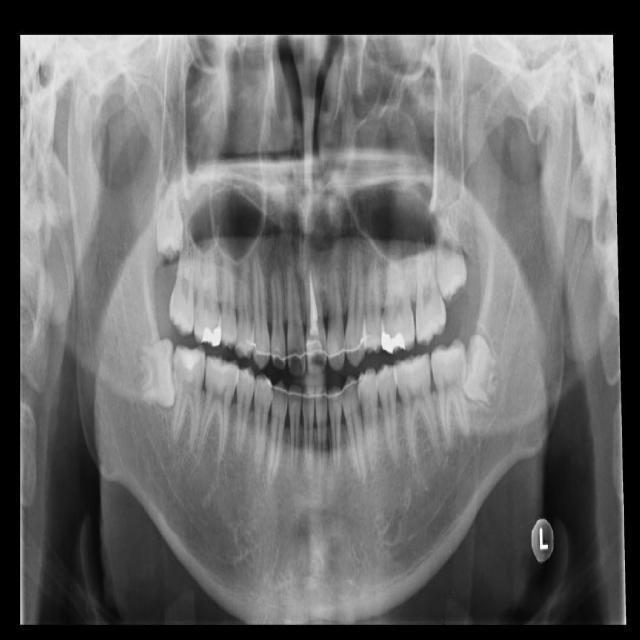Filling: (378, 320, 408, 351), (175, 347, 205, 375), (304, 333, 325, 367), (197, 318, 220, 344)
Root Canal Treatment: (311, 274, 319, 334)
impacted tooth: (428, 198, 469, 300), (118, 341, 176, 405), (463, 333, 511, 405), (156, 157, 184, 255)
